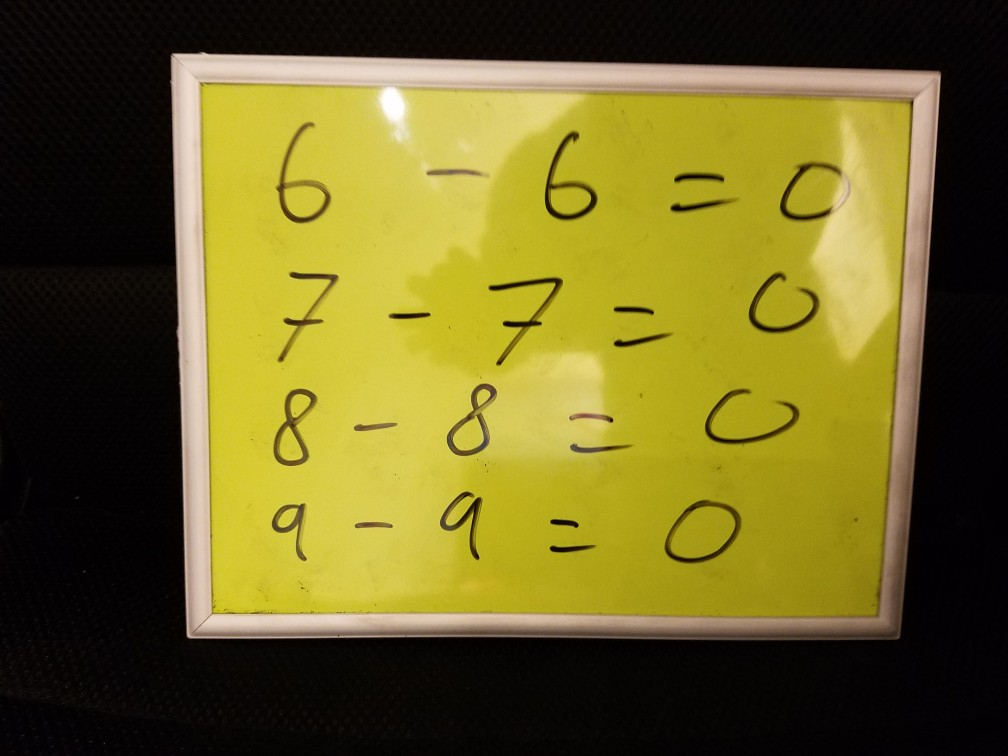-: (416, 153, 494, 194), (336, 509, 409, 544), (379, 294, 439, 332), (347, 405, 405, 441)
0: (693, 379, 806, 450), (739, 256, 828, 345), (654, 492, 750, 570), (771, 151, 857, 230)
6: (266, 115, 336, 230), (534, 118, 606, 223)
7: (475, 260, 569, 369), (260, 256, 345, 370)
8: (262, 383, 324, 475), (441, 379, 506, 464)
9: (433, 483, 492, 568), (263, 495, 315, 570)
=: (554, 395, 645, 468), (662, 158, 744, 223), (599, 295, 681, 356), (538, 507, 603, 564)
